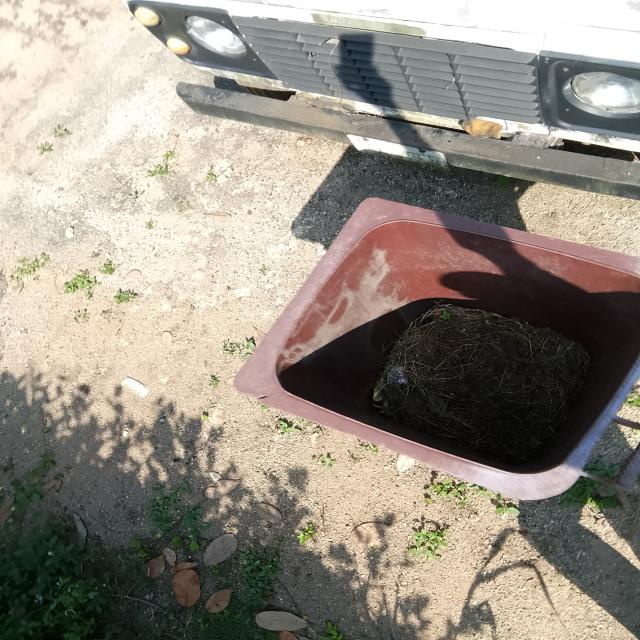empty: (240, 195, 640, 504)
